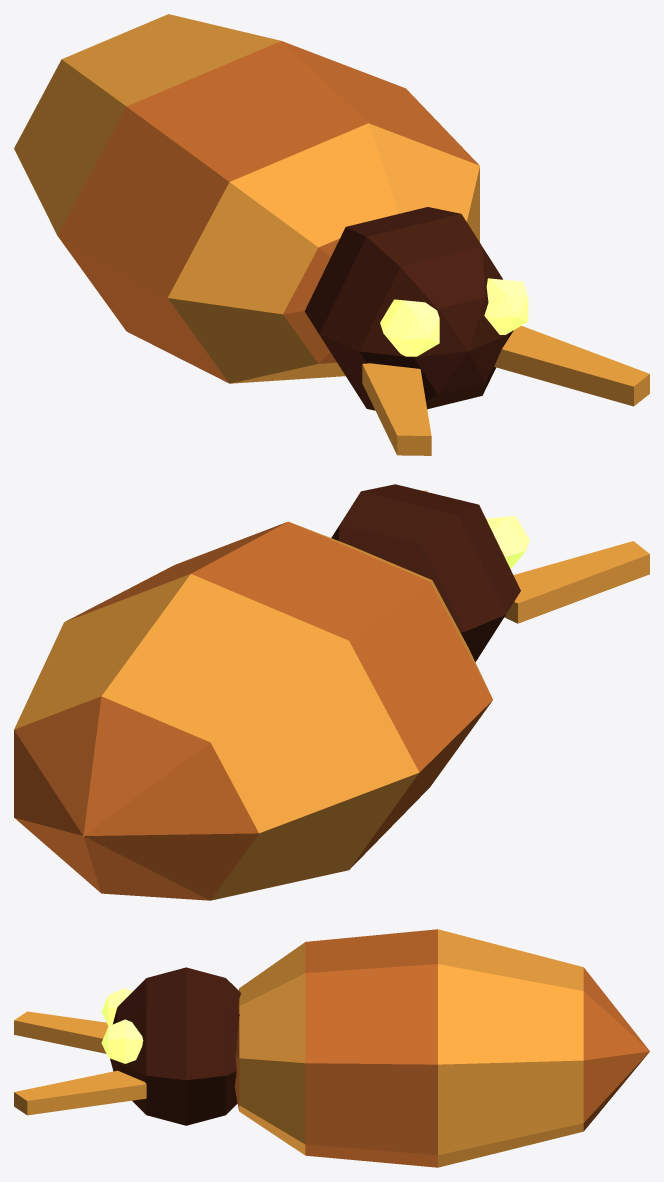
Rendered from rts.swarmling.glb.
3 views of the same model, one above another, from view 1: azimuth 30°, elevation 25°; view 2: azimuth 150°, elevation 25°; view 3: azimuth 270°, elevation 25° (orthographic). The views are drawn at different scales.
Visible parts, largest first — view 1: rts.swarmling; view 2: rts.swarmling; view 3: rts.swarmling.
Part boxes in pixels (bbox=[...]): rts.swarmling: bbox=[14, 14, 649, 455]; rts.swarmling: bbox=[14, 484, 649, 900]; rts.swarmling: bbox=[14, 929, 649, 1167].
Size of the model in its own units: 1.1 by 0.8482 by 2.4.
